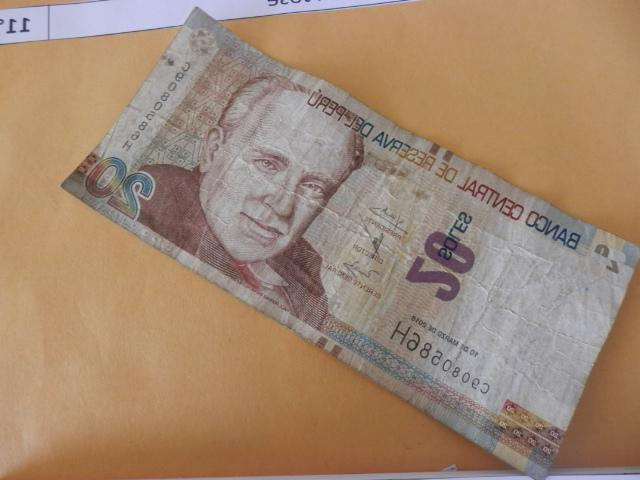B20: (64, 7, 639, 480)
